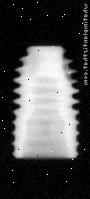Osstem Implant: (12, 45, 77, 159)
